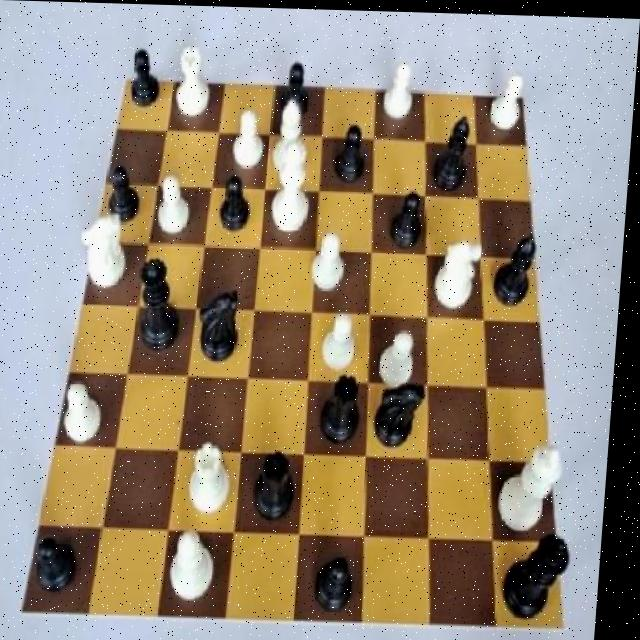bishop: (489, 218, 550, 315), (427, 110, 482, 195)
black-bishop: (506, 525, 581, 626)
black-king: (194, 281, 255, 375), (369, 369, 430, 456)
black-knight: (311, 544, 372, 624), (35, 529, 91, 611), (328, 114, 378, 191), (122, 41, 170, 114), (215, 164, 260, 240), (103, 158, 150, 230), (387, 185, 436, 252), (277, 54, 323, 124)
black-pawn: (133, 251, 190, 358)
black-queen: (255, 441, 307, 532), (316, 368, 373, 451)
black-rook: (168, 518, 230, 611), (267, 94, 316, 184)
white-bishop: (502, 434, 572, 536)
white-king: (429, 229, 493, 320), (77, 213, 137, 299)
white-knight: (63, 370, 119, 455), (320, 296, 371, 379), (379, 306, 426, 396), (375, 47, 423, 129), (224, 96, 273, 173), (307, 227, 355, 301), (485, 64, 529, 143), (157, 166, 203, 234)
white-pawn: (268, 139, 322, 239)
white-queen: (187, 436, 241, 526), (167, 35, 216, 124)
